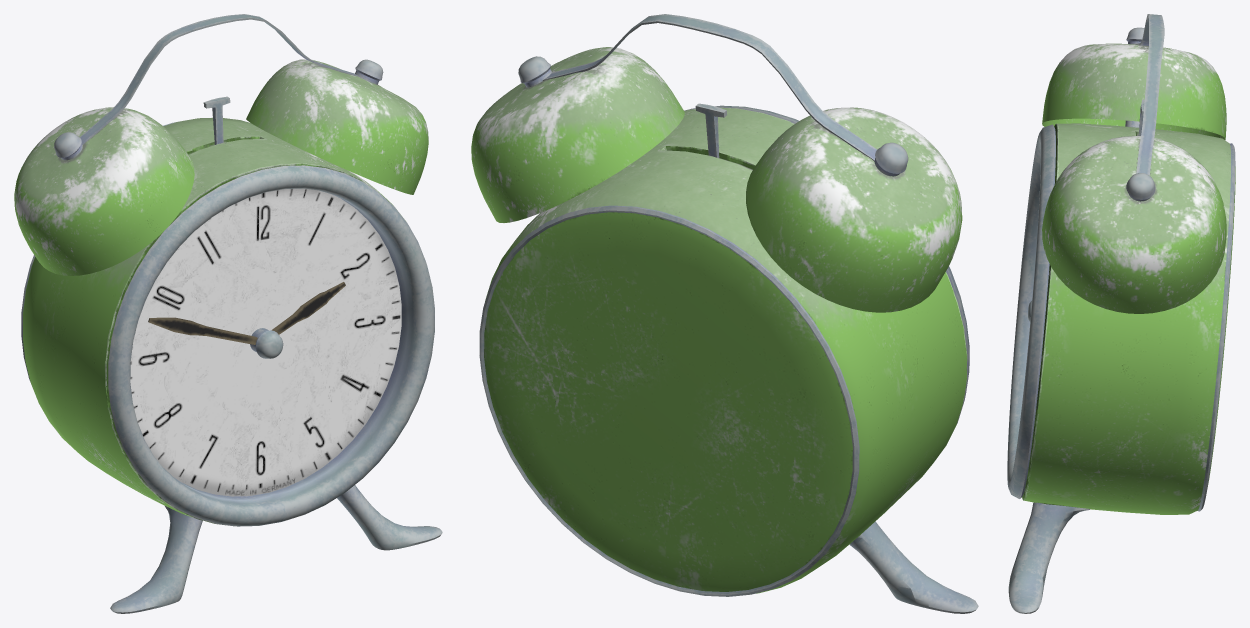
Rendered from hourglass.glb.
3 renders of one model, left to right at view 1: azimuth 30°, elevation 25°; view 2: azimuth 150°, elevation 25°; view 3: azimuth 270°, elevation 25°, orthographic. The views are drawn at different scales.
Visible parts, largest first — view 1: Mesh_Default_0; view 2: Mesh_Default_0; view 3: Mesh_Default_0.
Boxes of the visible parts, box(x1,y1,x2,y2) form: Mesh_Default_0: box(14, 14, 442, 613); Mesh_Default_0: box(471, 14, 978, 613); Mesh_Default_0: box(1007, 14, 1235, 613).
Bounding box in the file's own units: 604 × 744 × 306.
Materials: 1 (1 with a texture image).
